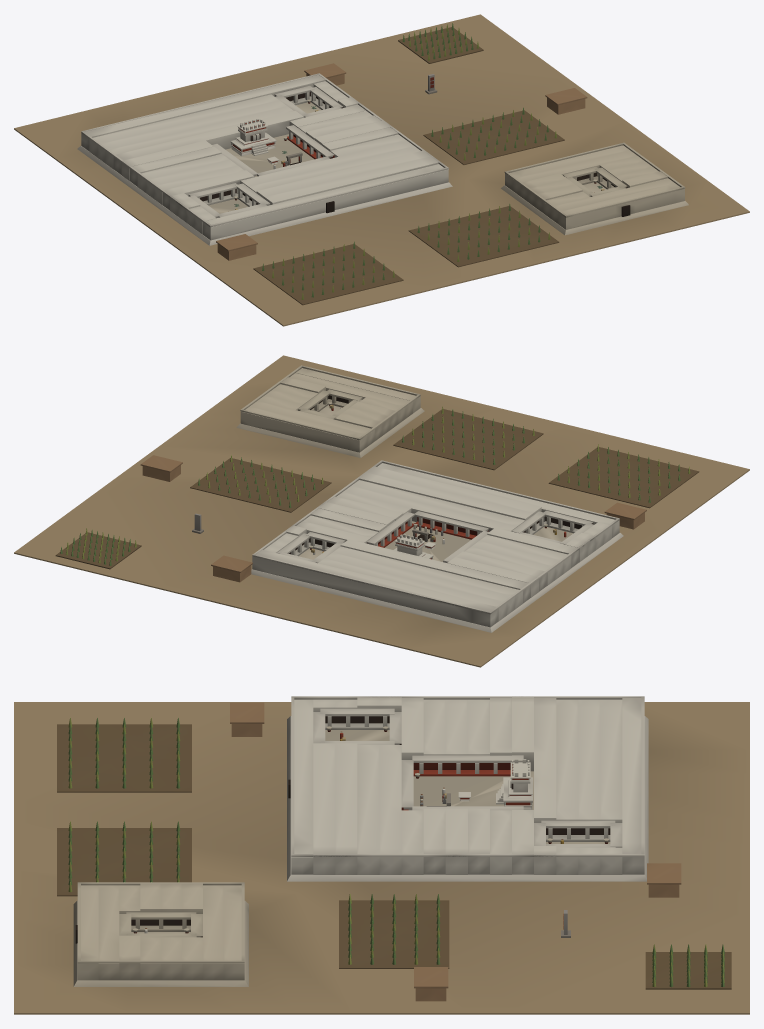
The model's file is oaxaca-barrio.glb.
3 renders of one model, top to bottom at view 1: azimuth 30°, elevation 25°; view 2: azimuth 150°, elevation 25°; view 3: azimuth 270°, elevation 25°, orthographic. The views are drawn at different scales.
Visible parts, largest first — view 1: p0_ground, p1_compounds, p2_people; view 2: p0_ground, p1_compounds, p2_people; view 3: p0_ground, p1_compounds, p2_people.
Part boxes in pixels (bbox=[...]): p0_ground: bbox=[14, 14, 749, 326]; p1_compounds: bbox=[77, 73, 688, 245]; p2_people: bbox=[216, 23, 587, 305]; p0_ground: bbox=[14, 355, 749, 667]; p1_compounds: bbox=[236, 365, 623, 632]; p2_people: bbox=[55, 406, 699, 582]; p0_ground: bbox=[14, 702, 749, 1014]; p1_compounds: bbox=[73, 696, 648, 986]; p2_people: bbox=[57, 702, 731, 1001].
Bounding box in the file's own units: 120 × 7.34 × 120.
